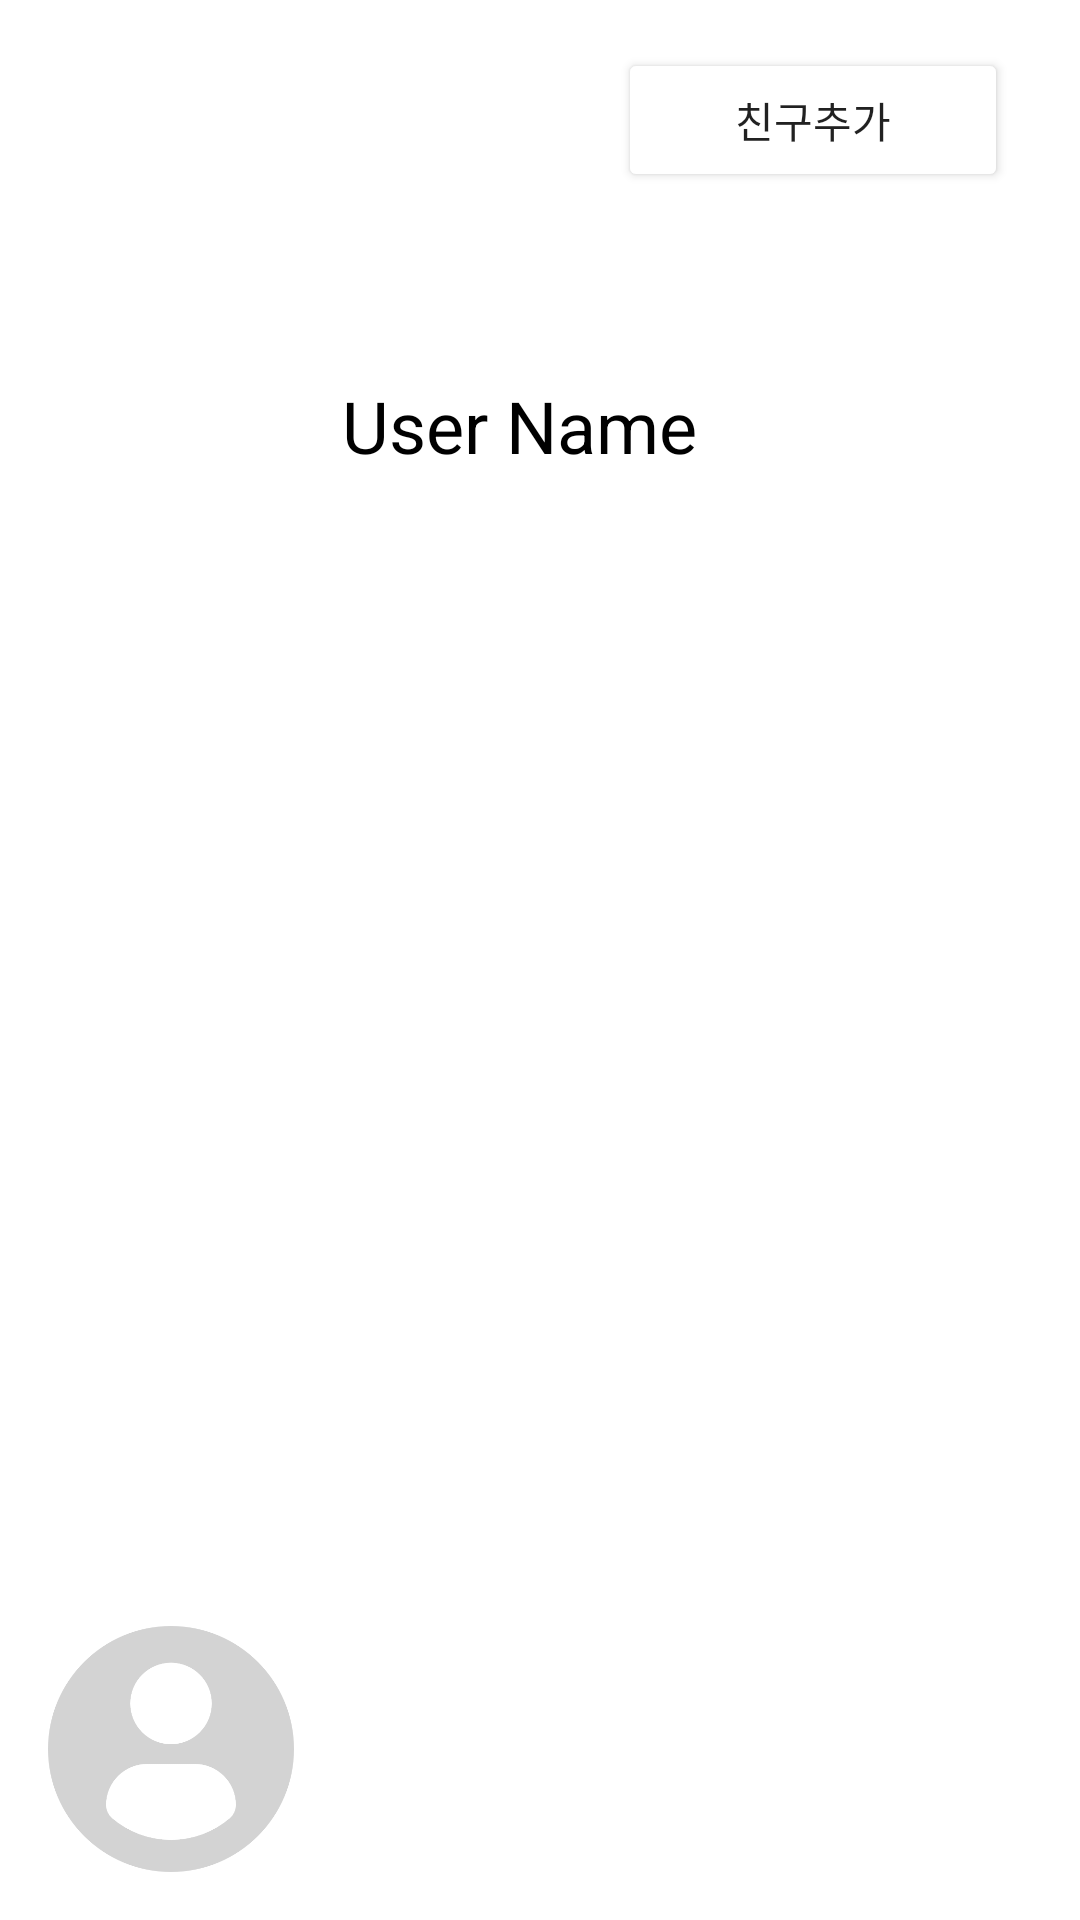

Where to tap for icons on this 1080px×1920px app screen, as [x,y]:
profile: [171,1749]
